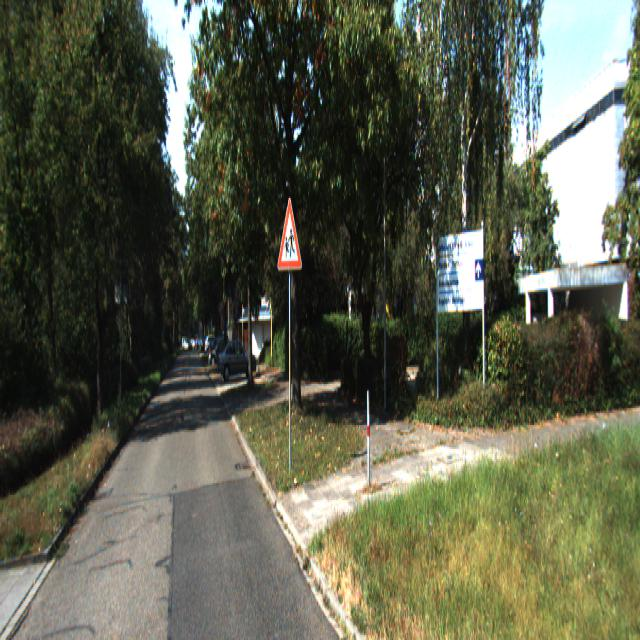Car: (217, 337, 256, 383)
